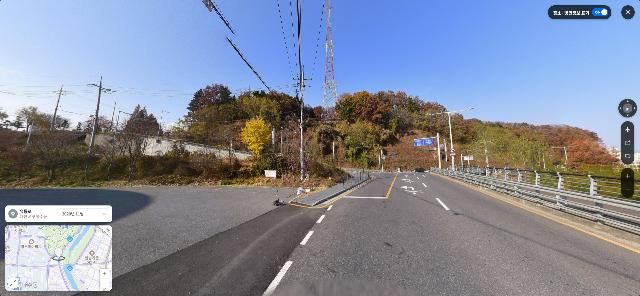ginkgo: (239, 118, 271, 156)
other: (1, 84, 639, 193)
